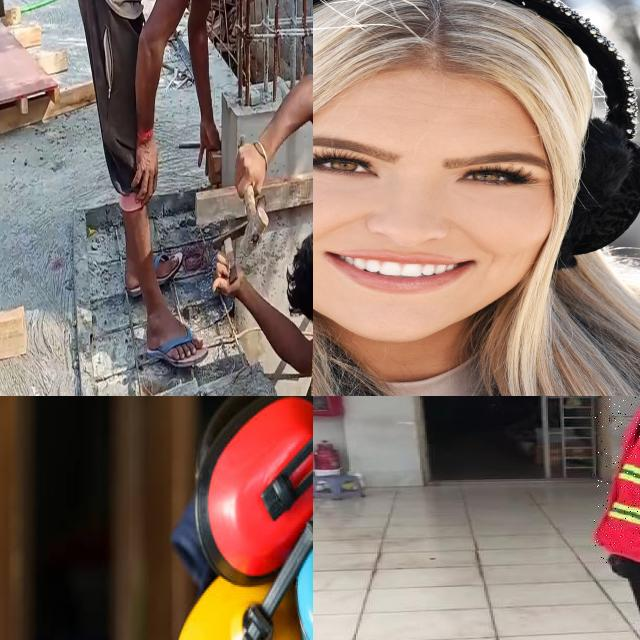Ear-protection: (196, 396, 313, 580), (580, 117, 640, 265)
Sandals: (140, 283, 206, 368)
hand_noglove: (130, 111, 160, 208), (232, 134, 272, 194)
person: (566, 396, 640, 640)
vest: (594, 396, 640, 565)
